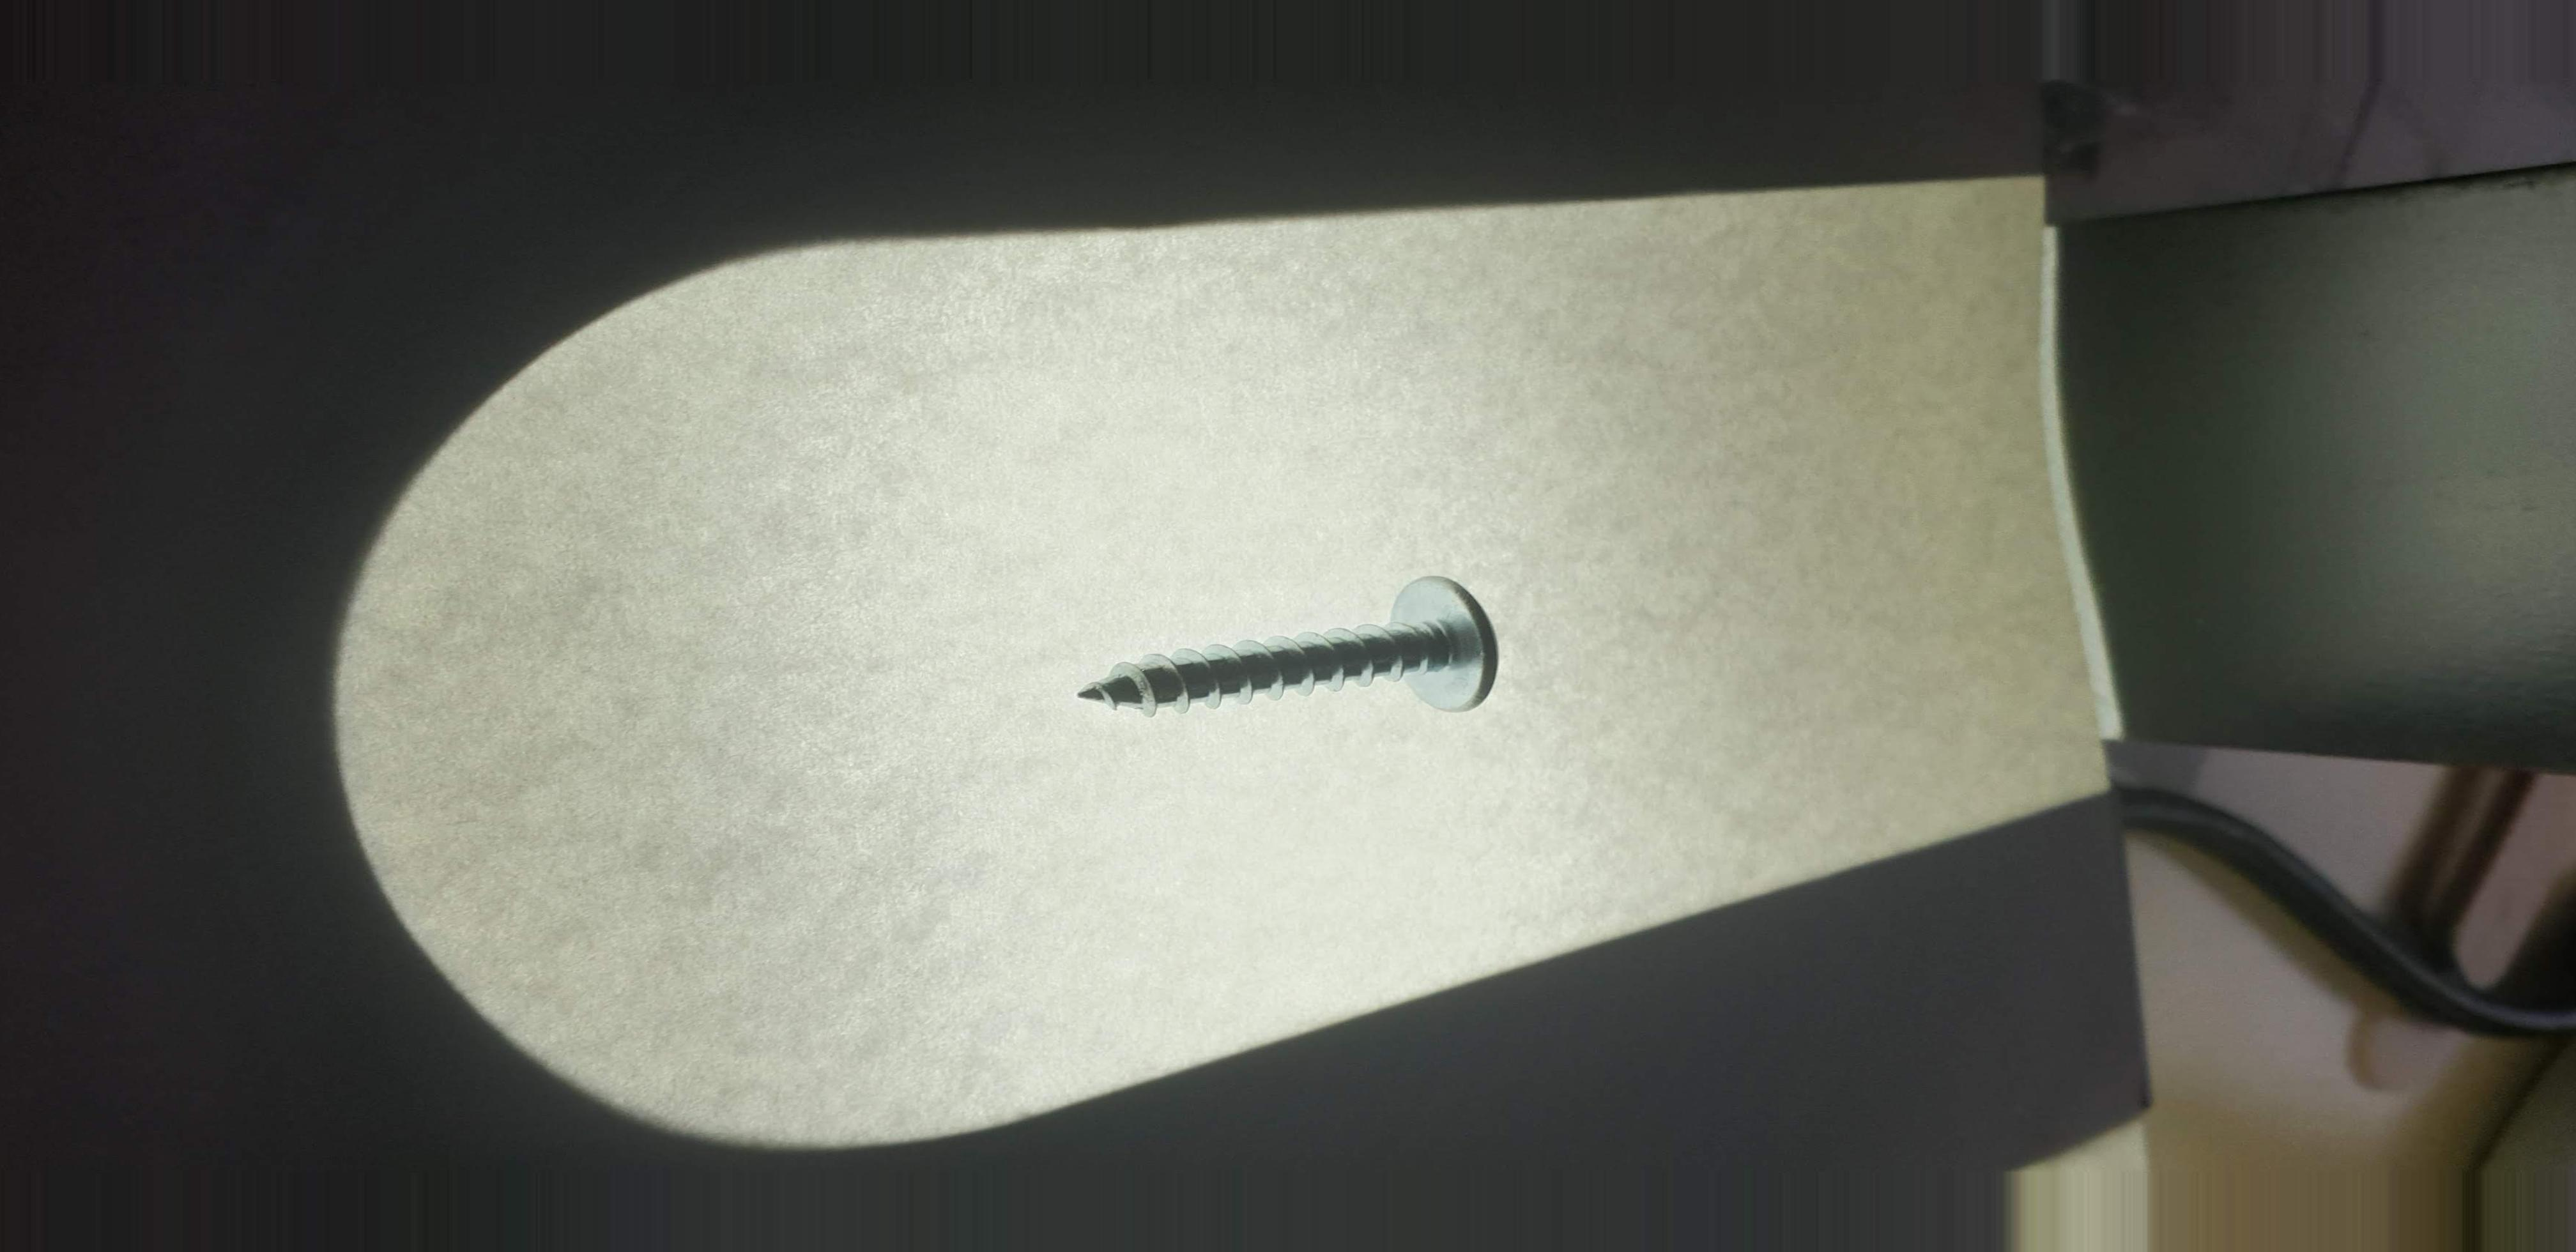S002: (1037, 564, 1577, 762)
